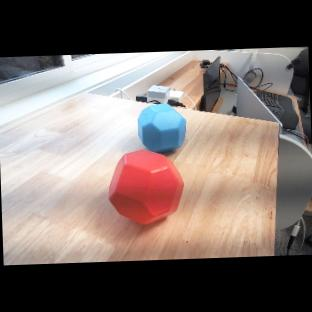V5_BLUE: (136, 102, 188, 152)
V5_RED: (108, 148, 187, 227)
